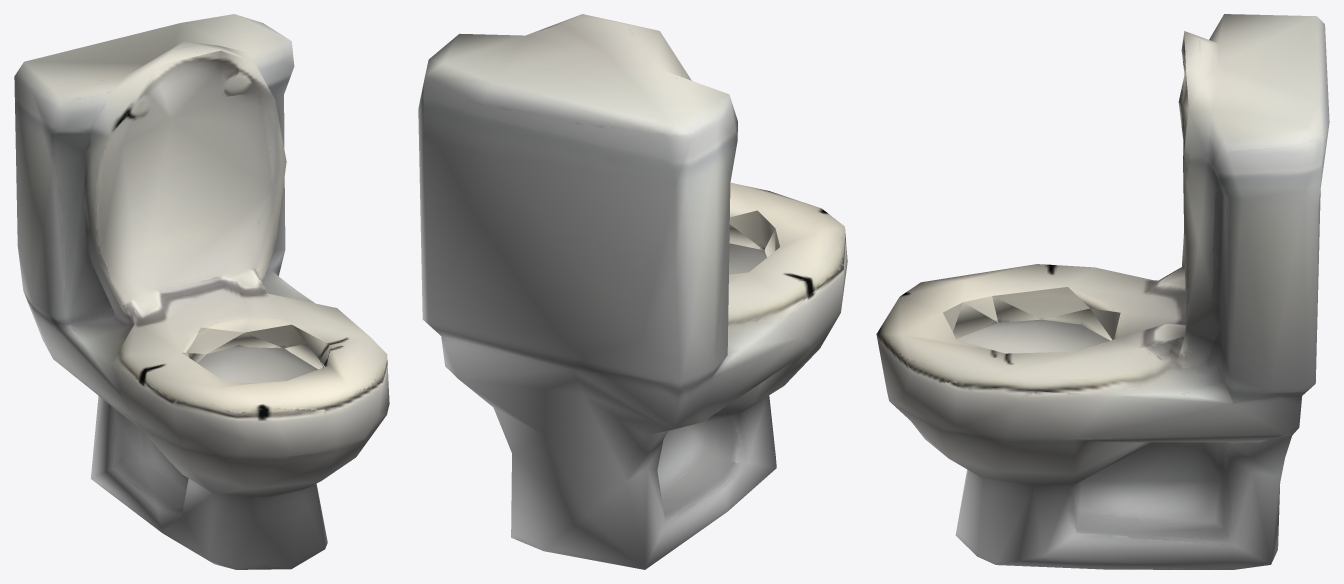
File: school-toilet-broken.glb
3 views of the same model, side by side, from view 1: azimuth 30°, elevation 25°; view 2: azimuth 150°, elevation 25°; view 3: azimuth 270°, elevation 25° (orthographic). The views are drawn at different scales.
Parts seen in each view (by area): view 1: geometry_0.001; view 2: geometry_0.001; view 3: geometry_0.001.
Boxes of the visible parts, x1,y1,x2,y2 form: geometry_0.001: (14, 14, 389, 569); geometry_0.001: (418, 14, 847, 569); geometry_0.001: (876, 14, 1329, 569).
Bounding box in the file's own units: 0.5715 × 1 × 0.828.
1 material, 1 textured.
